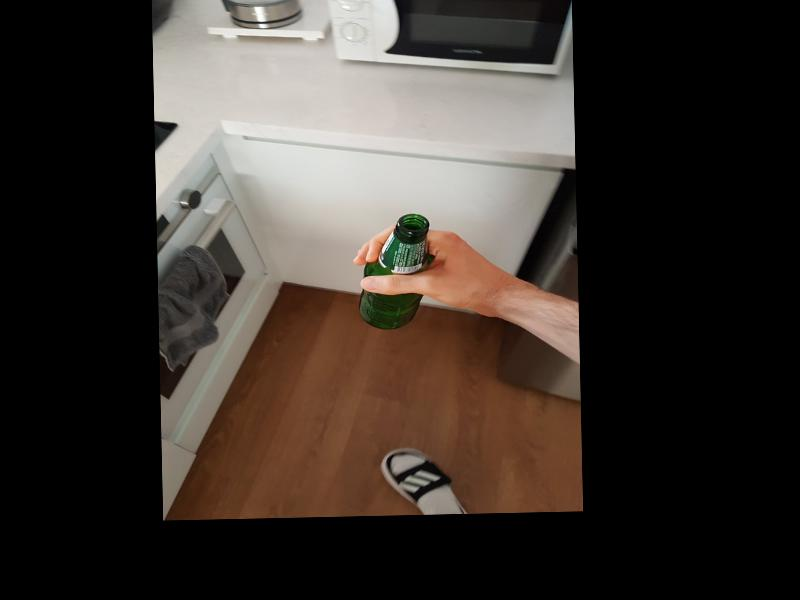Beer: (357, 215, 431, 330)
